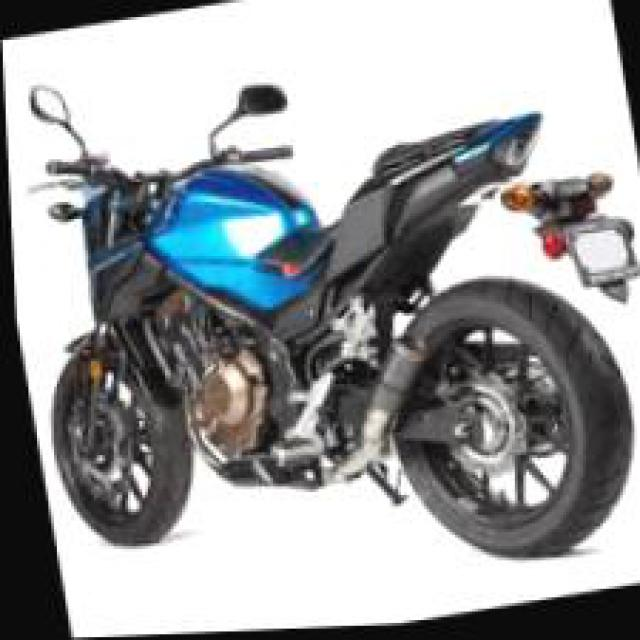CB500F: (3, 77, 637, 637)
